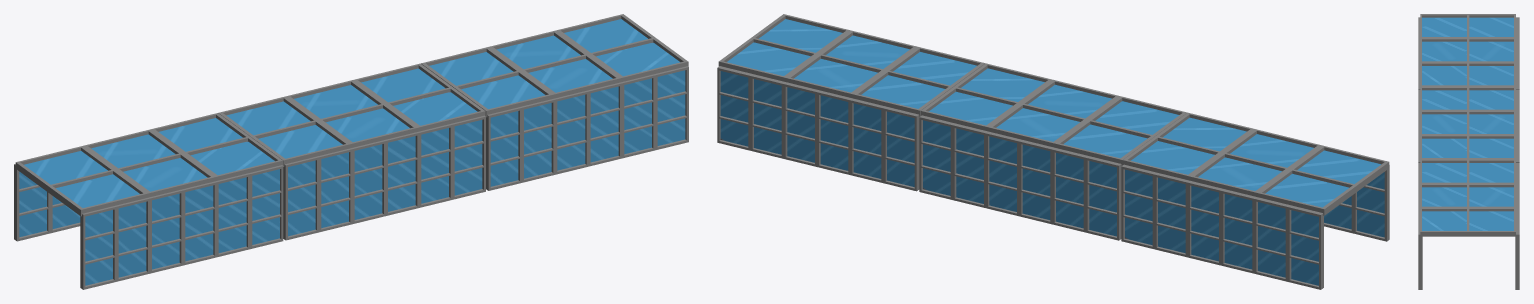
The model's file is windows.fbx.
The picture shows the model from 3 angles, left to right: view 1: azimuth 30°, elevation 25°; view 2: azimuth 150°, elevation 25°; view 3: azimuth 270°, elevation 25°; orthographic projection. The views are drawn at different scales.
Visible parts, largest first — view 1: Window_wall_3, Window_wall_1, Window_wall_2; view 2: Window_wall_3, Window_wall_1, Window_wall_2; view 3: Window_wall_1, Window_wall_2, Window_wall_3.
Boxes of the visible parts, x1,y1,x2,y2 form: Window_wall_3: (14,113,283,289); Window_wall_1: (421,14,688,190); Window_wall_2: (218,63,485,240); Window_wall_3: (1121,112,1389,289); Window_wall_1: (717,14,985,191); Window_wall_2: (919,63,1187,240); Window_wall_1: (1418,159,1519,289); Window_wall_2: (1418,86,1519,162); Window_wall_3: (1418,14,1519,89).
Size of the model in its own units: 12542 by 1563 by 2470.
